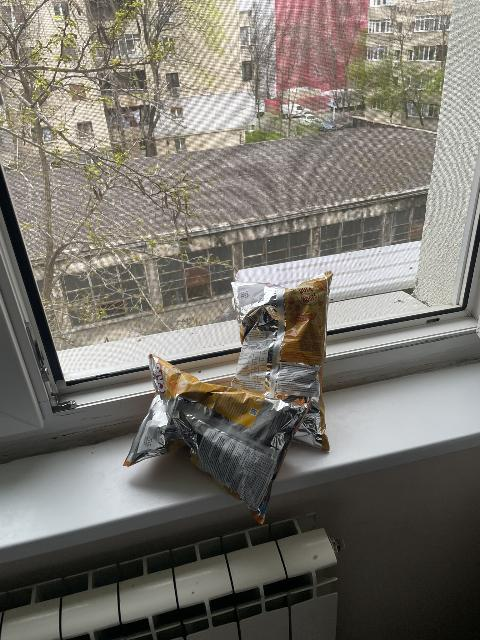Chio Cascaval 125g: (121, 355, 308, 526)
Chio Hula Hoops Cheese 70g: (230, 274, 332, 450)
